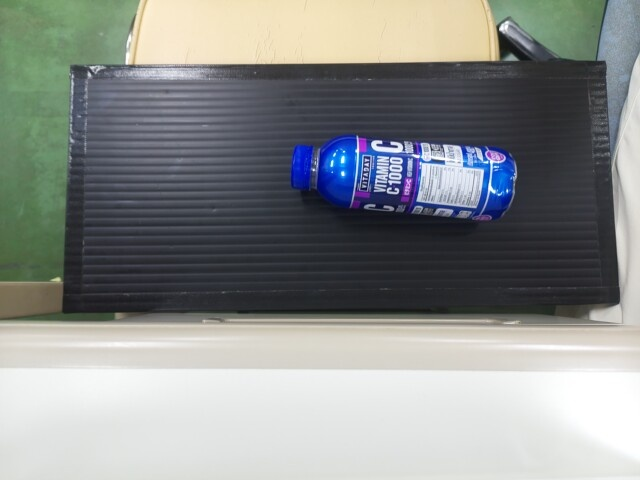plastic_bottle: (290, 137, 517, 218)
